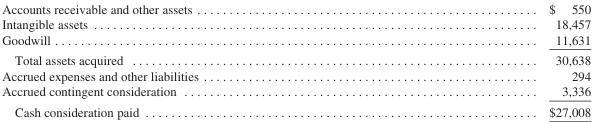table: (1, 0, 590, 118)
table column: (1, 0, 373, 118), (373, 0, 590, 118)
table row: (1, 31, 590, 49), (1, 49, 590, 67), (1, 83, 590, 101), (1, 101, 590, 118), (1, 15, 590, 31), (1, 67, 590, 83), (1, 0, 590, 15)
